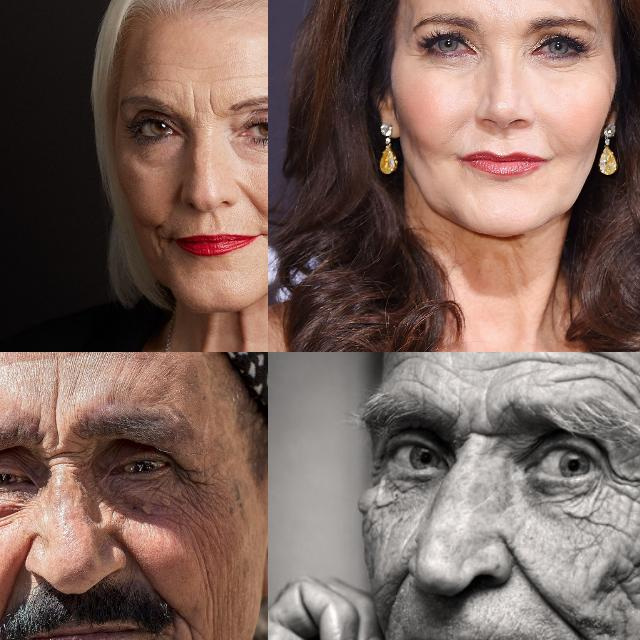crows_feet: (608, 469, 640, 503), (172, 464, 204, 496), (584, 40, 606, 61), (406, 44, 428, 61), (368, 459, 380, 487)
forehead: (558, 352, 640, 402), (472, 352, 550, 378), (140, 72, 178, 88), (48, 362, 66, 392)
frown_line: (451, 423, 494, 453), (44, 446, 78, 470), (48, 400, 64, 442), (184, 89, 202, 121), (205, 85, 221, 116)
gummy_smile: (500, 534, 580, 626), (120, 540, 160, 580), (385, 568, 411, 622), (0, 559, 26, 608), (241, 186, 268, 218)
masseter: (617, 539, 640, 607), (197, 546, 220, 610), (160, 502, 210, 528)
sad_smile: (148, 222, 168, 255), (178, 614, 201, 640)
